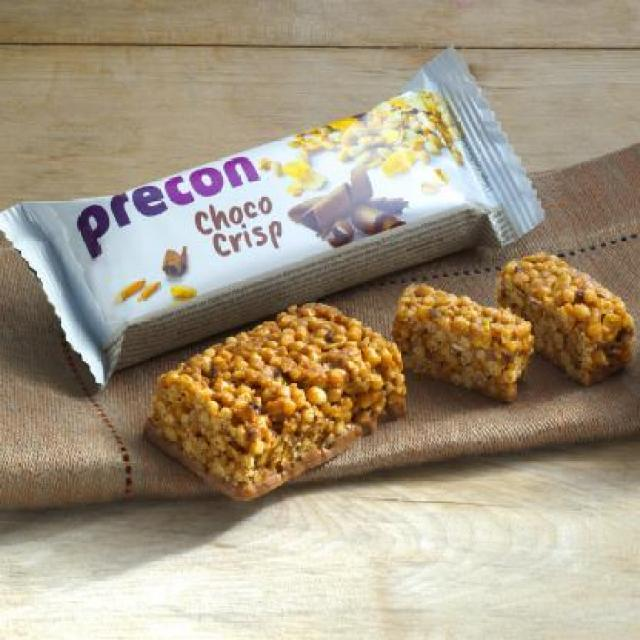Cereal bar: (11, 49, 543, 382)
Cereal bar packaged: (140, 301, 408, 505), (497, 250, 637, 384), (393, 284, 536, 408)
